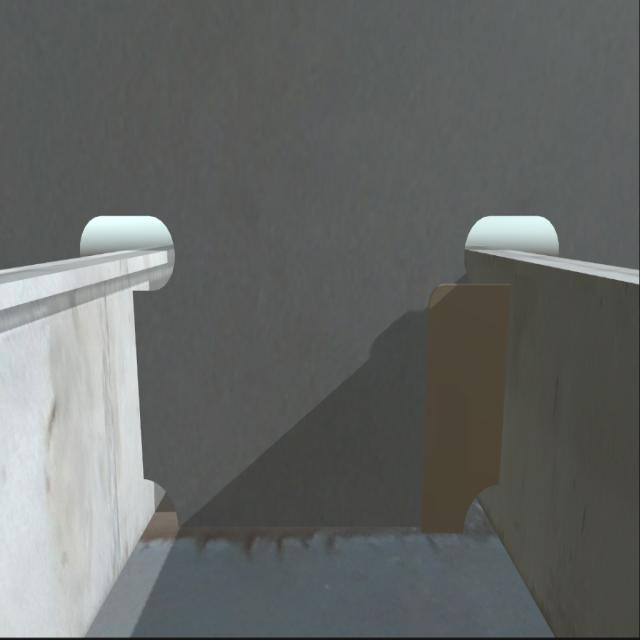fillet_hole: (142, 476, 182, 530), (461, 483, 497, 537)
fillet_yong_jeop_jang: (173, 513, 468, 539)
longi_yong_jeop_jang: (487, 276, 517, 490), (130, 284, 149, 479)
plate_CP05: (426, 286, 510, 534)
